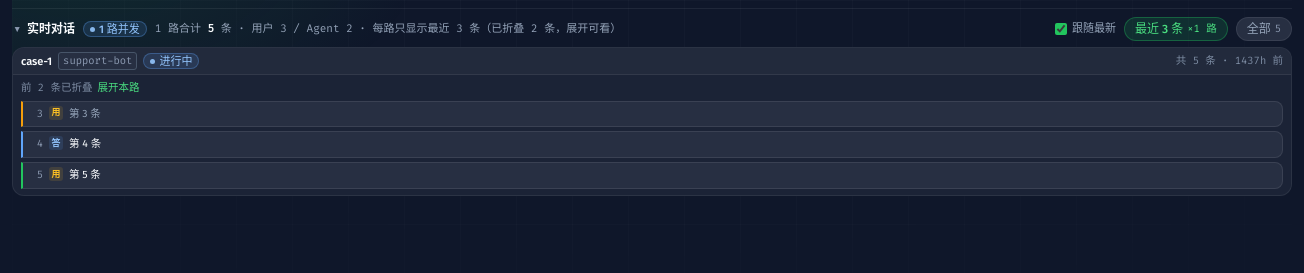
实时对话头行计数：分母、截断提示、单位词 › 折叠条数按**当前视图**算：那一路展开后提示自己消失
What coordinates should you click on to do the following:
click the button "展开本路"
I would click on:
 (118, 88)
Its box is [97,81,139,96].
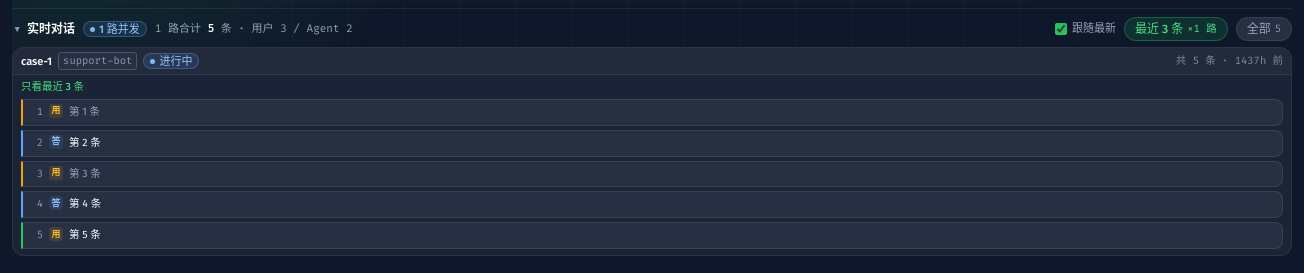
Now the element with test id "plan-live-turns-count" no longer shows "已折叠"
